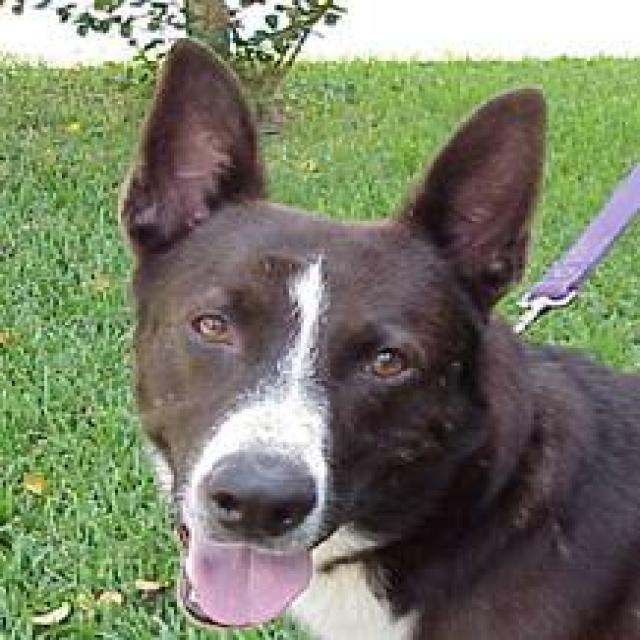dog: (115, 35, 637, 638)
